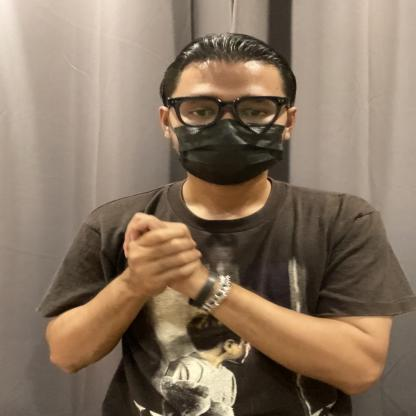Grieve: (46, 195, 306, 322)
